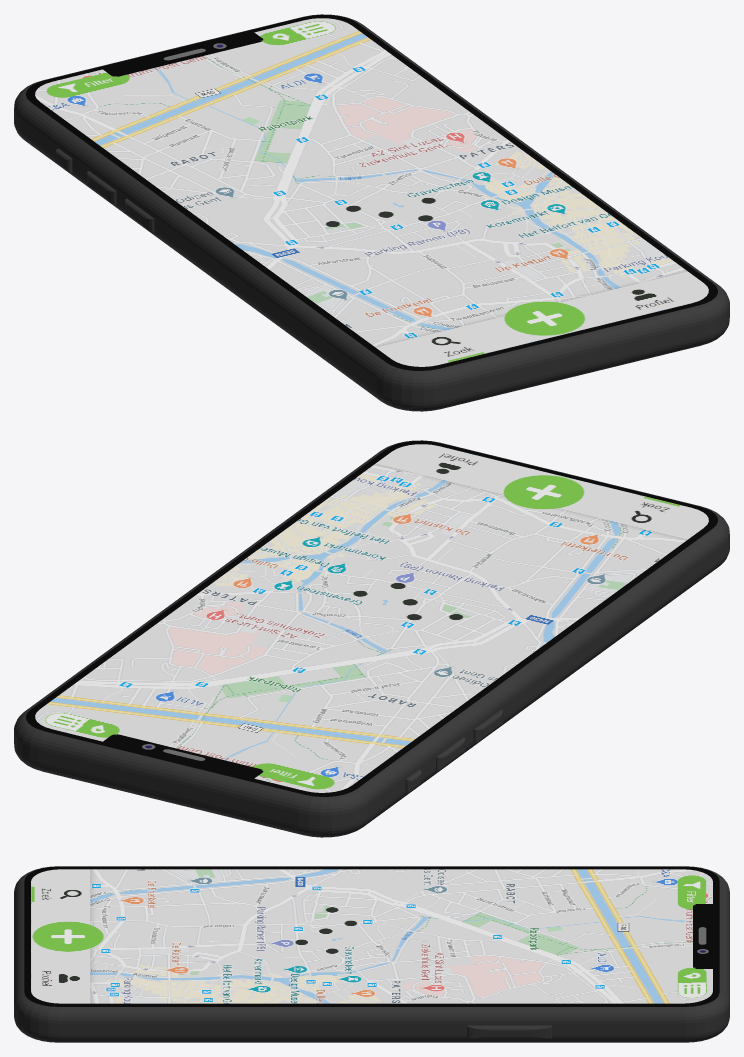
Rendered from iphone.glb.
The picture shows the model from 3 angles, top to bottom: view 1: azimuth 30°, elevation 25°; view 2: azimuth 150°, elevation 25°; view 3: azimuth 270°, elevation 25°; orthographic projection. The views are drawn at different scales.
Parts seen in each view (by area): view 1: Cube; view 2: Cube; view 3: Cube, Cube.004.
Part boxes in pixels (left/top/right/bottom): Cube: left=14, top=14, right=729, bottom=411; Cube: left=14, top=440, right=729, bottom=837; Cube: left=14, top=866, right=729, bottom=1042; Cube.004: left=467, top=1025, right=551, bottom=1038.
Bounding box in the file's own units: 0.0731 × 0.00943 × 0.144.
13 materials, 1 textured.
